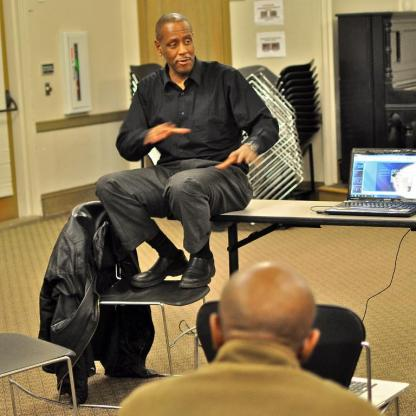board: (324, 146, 416, 215), (349, 377, 410, 409)
